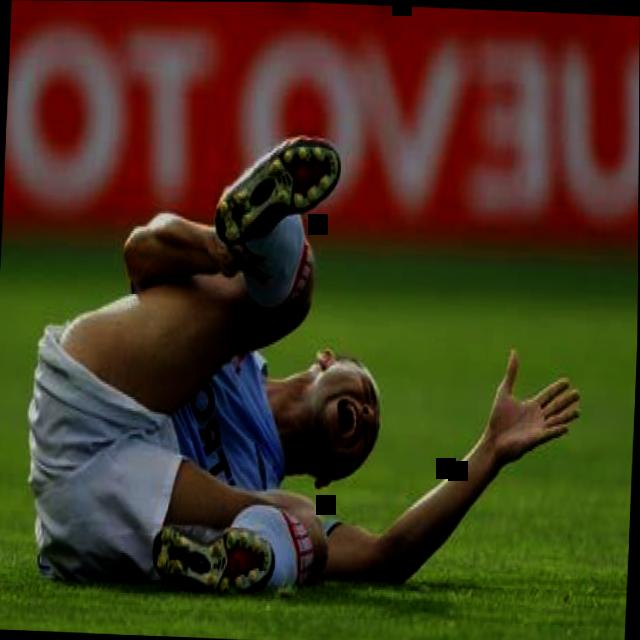Fall-Detected: (0, 78, 630, 624)
